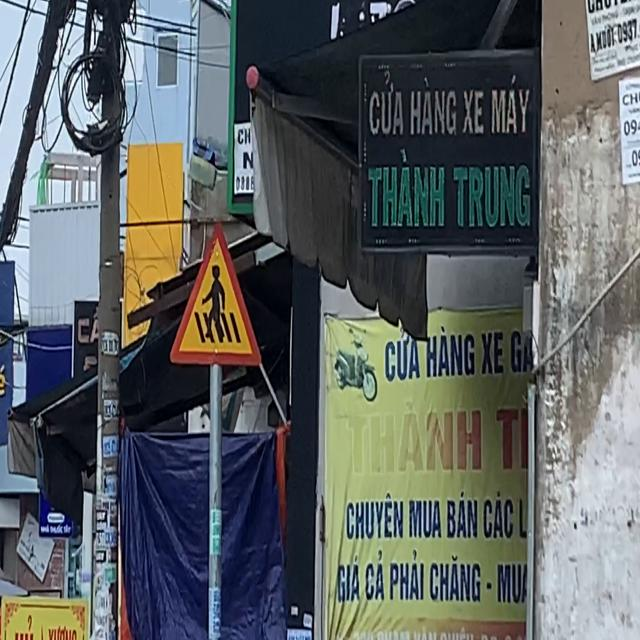Nguoi di bo cat ngang: (170, 220, 262, 366)
